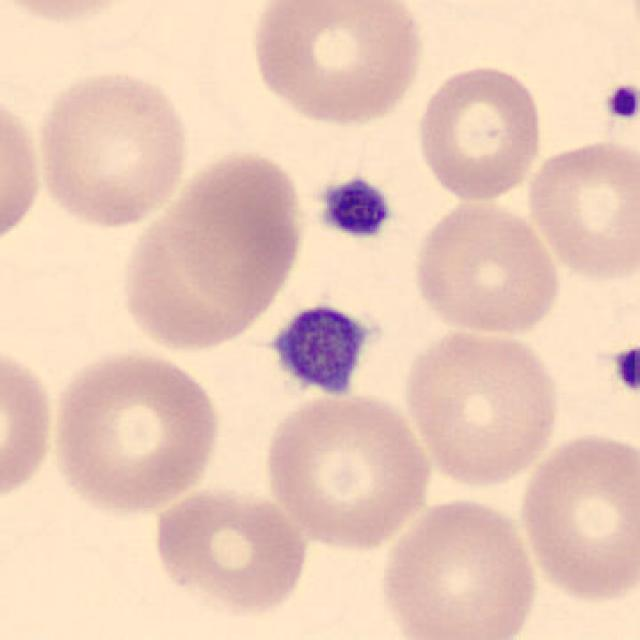Platelets: (262, 298, 382, 402), (313, 174, 396, 242), (601, 80, 640, 126), (608, 342, 640, 398)
RBC: (118, 143, 310, 356), (46, 344, 226, 518), (260, 388, 436, 553), (400, 323, 565, 490), (30, 65, 194, 231), (375, 494, 542, 638), (246, 0, 428, 129), (148, 483, 311, 621), (409, 194, 565, 338), (514, 426, 638, 606), (410, 60, 548, 204), (521, 136, 638, 284), (0, 339, 59, 513), (0, 81, 46, 254), (0, 0, 153, 28)
